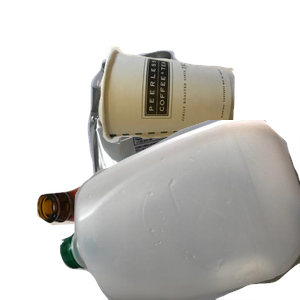glass: (34, 170, 223, 300)
metal: (85, 48, 300, 228)
plastic: (60, 120, 300, 300)
trash: (95, 44, 300, 180)
